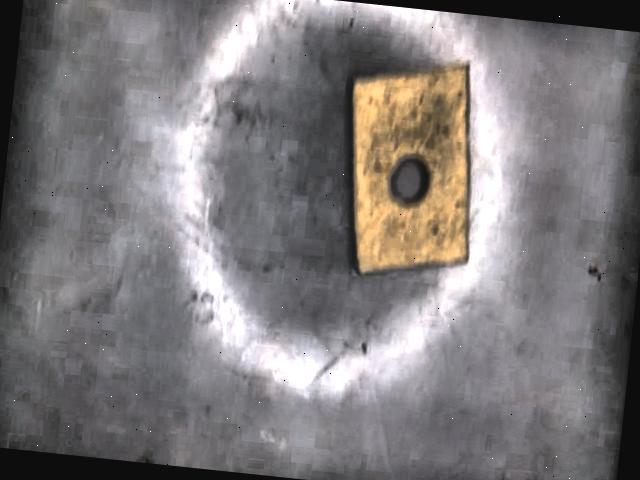Almennt: (352, 63, 469, 267)
